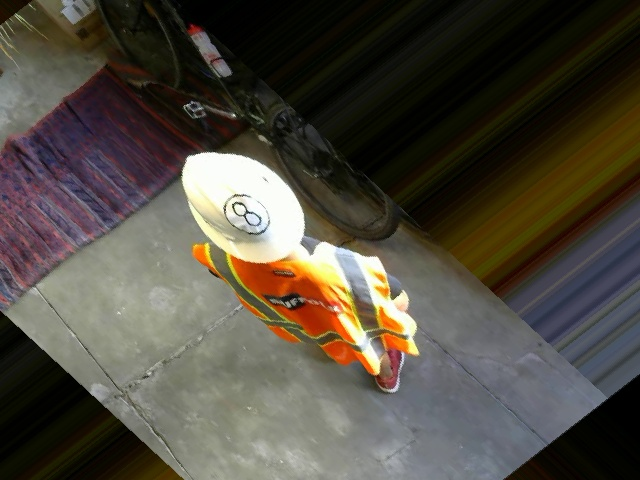eight: (214, 189, 277, 242)
